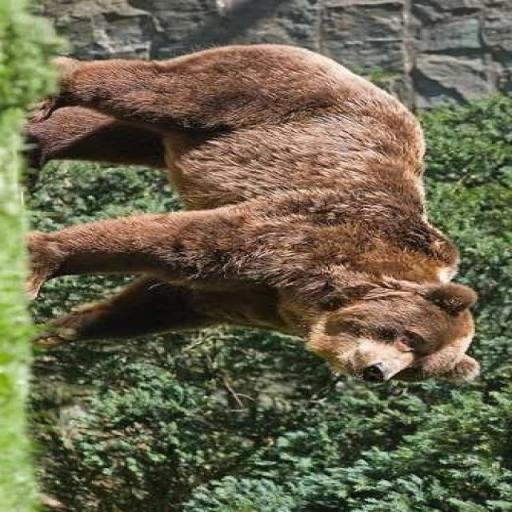Bear: (20, 42, 480, 385)
